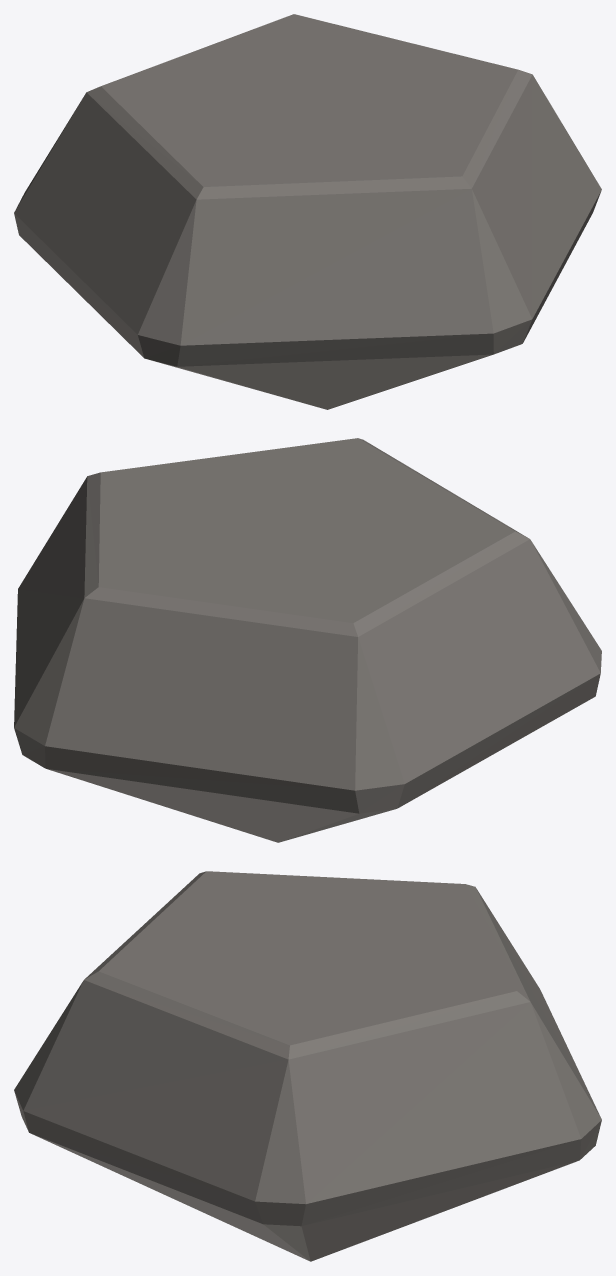
The model's file is Gray Gem.obj.
3 views of the same model, one above another, from view 1: azimuth 30°, elevation 25°; view 2: azimuth 150°, elevation 25°; view 3: azimuth 270°, elevation 25° (orthographic). The views are drawn at different scales.
Parts seen in each view (by area): view 1: GrayGem; view 2: GrayGem; view 3: GrayGem.
Boxes of the visible parts, <box> form: GrayGem: <box>14,14,601,409</box>; GrayGem: <box>14,438,601,842</box>; GrayGem: <box>14,871,601,1261</box>.
Bounding box in the file's own units: 6.58 × 3.81 × 6.66.
Materials: 1 (1 with a texture image).
